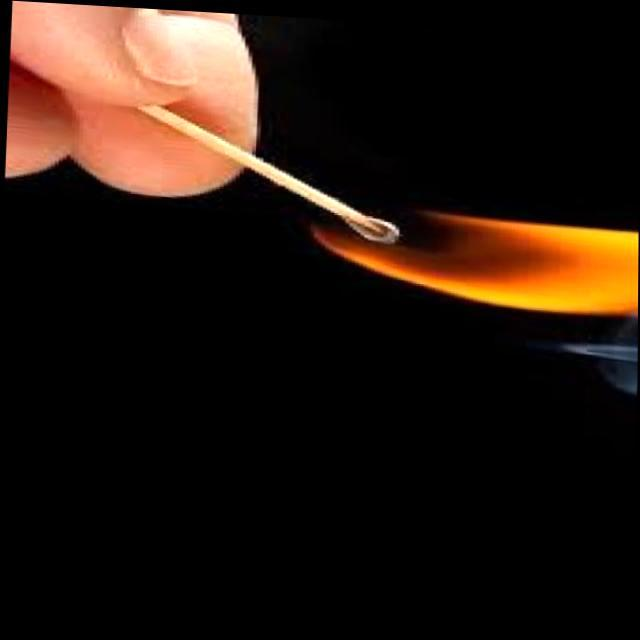fire: (312, 193, 640, 323)
